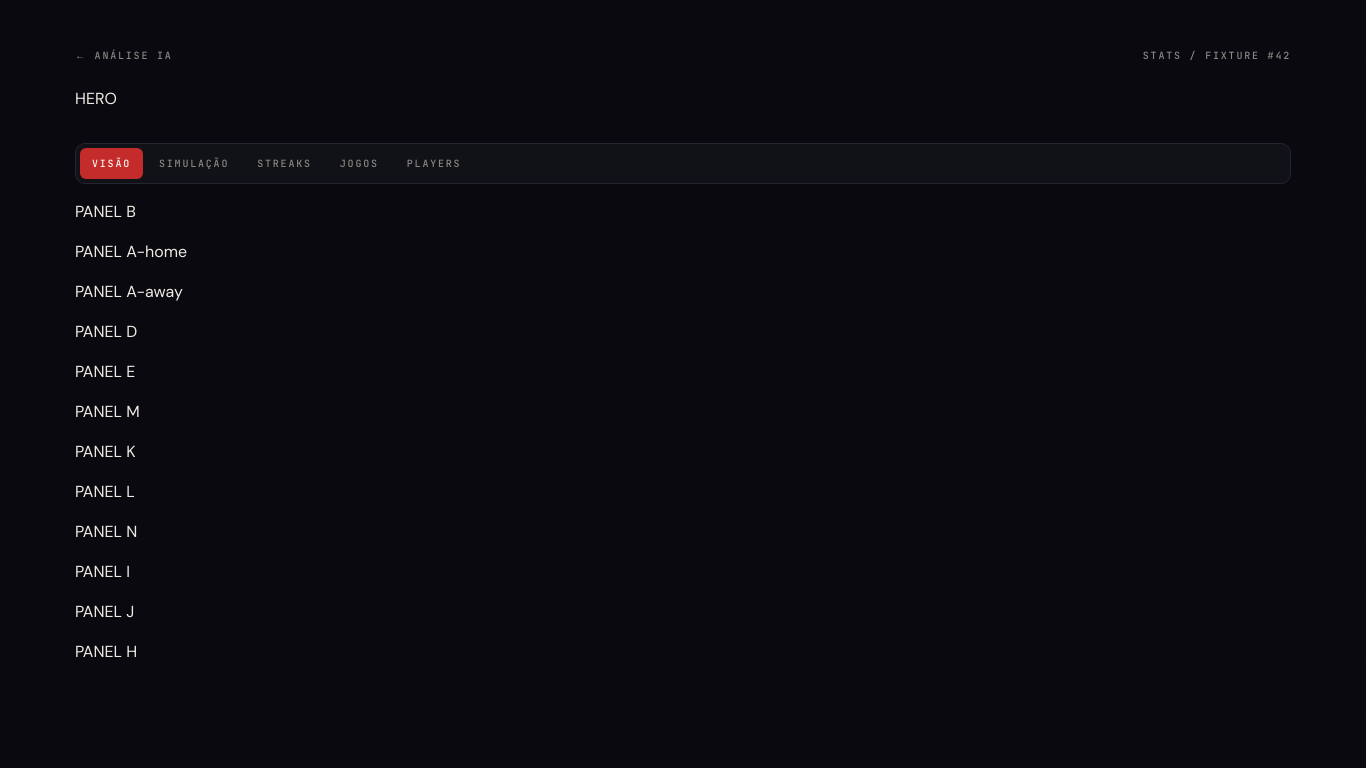
Scenario: StatsLayout — mobile tabs › clicking 'jogos' tab mounts both C-home and C-away
The width and height of the screenshot is (1366, 768).
Press the mouse on the tab "jogos": (359,164) left=328, top=148, right=391, bottom=179
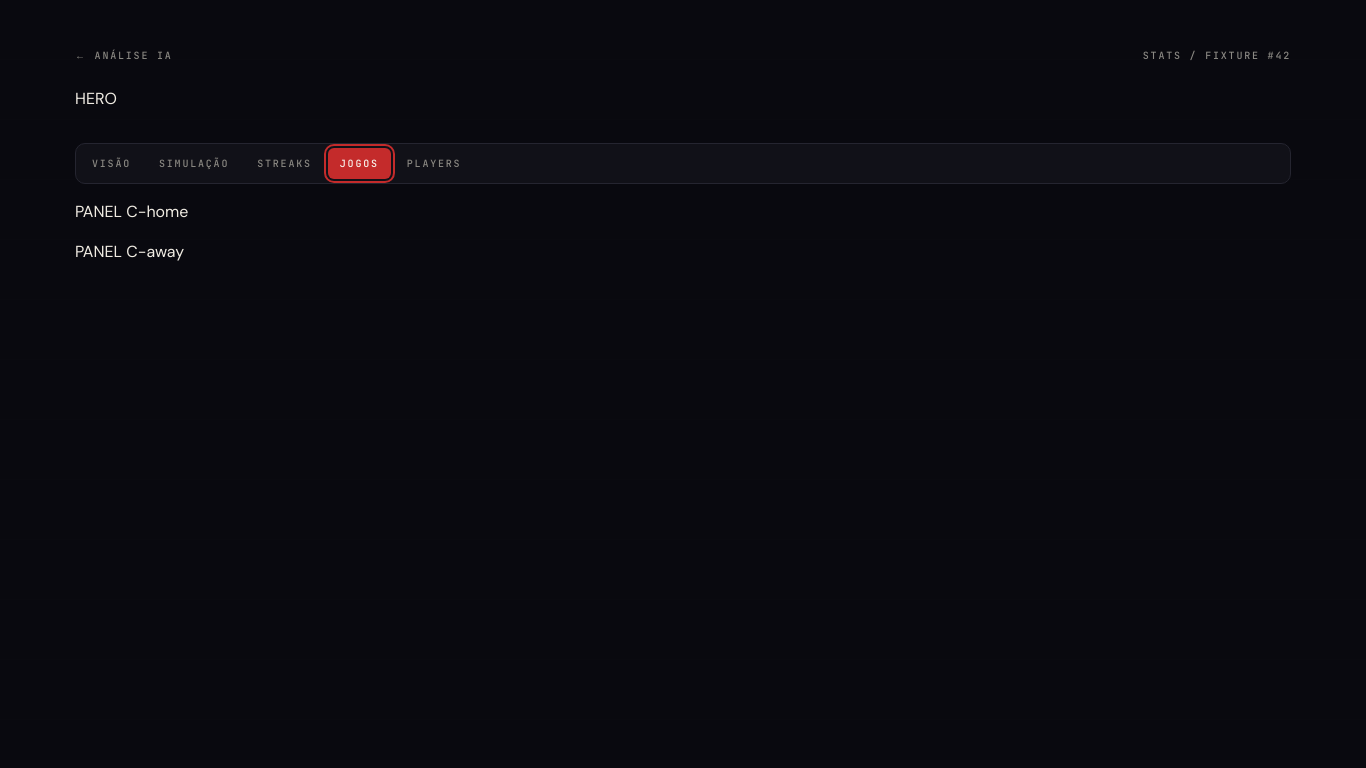
Now the element showing "PANEL C-home" is shown, box left=75, top=201, right=188, bottom=222
Now the element showing "PANEL C-away" is shown, box left=75, top=241, right=184, bottom=262
